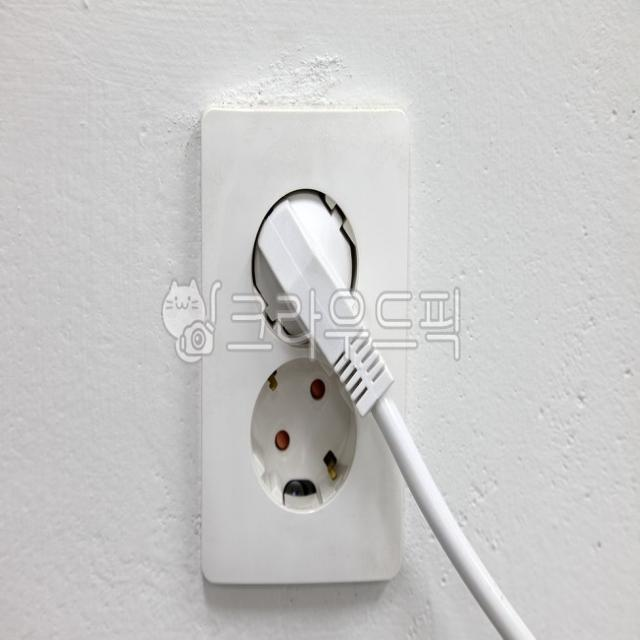typeb: (169, 90, 420, 608)
